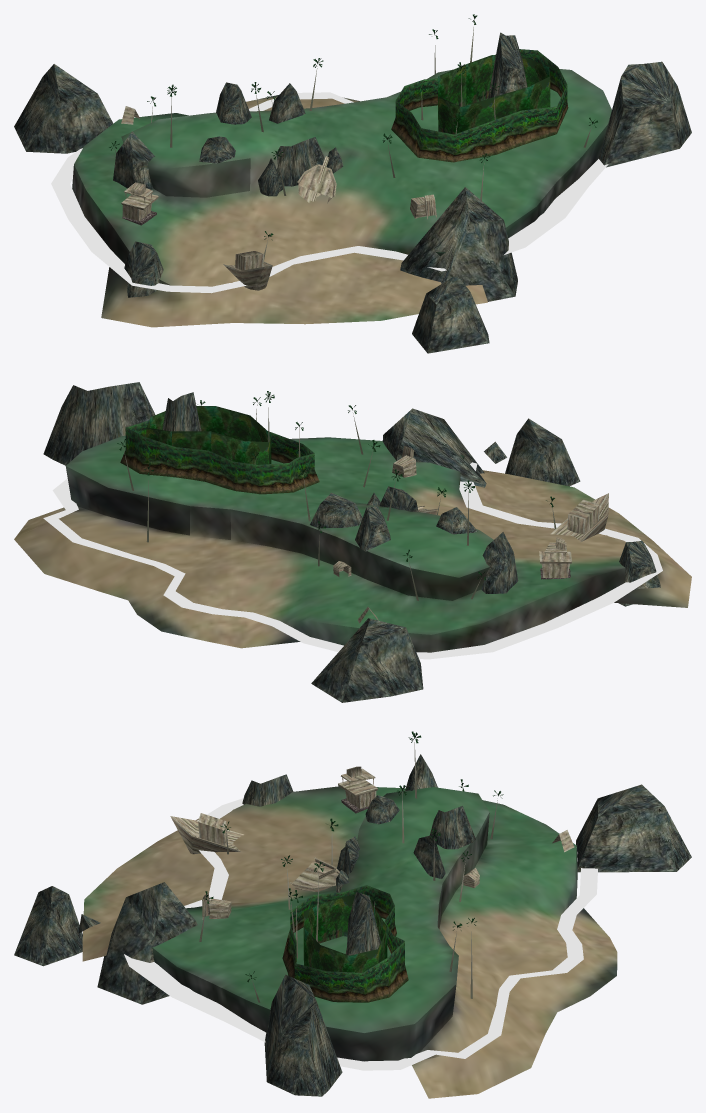
Rendered from pir_m_are_isl_pvpFrench_dock_lod.fbx.
3 renders of one model, top to bottom at view 1: azimuth 30°, elevation 25°; view 2: azimuth 150°, elevation 25°; view 3: azimuth 270°, elevation 25°, orthographic. The views are drawn at different scales.
Parts seen in each view (by area): view 1: floor, rock, berm, dock_wave, trees, shanty_repairshop_exterior_Proxy_deck43, shipwreck_fore_Proxy_deck_front2; view 2: floor, rock, dock_wave, berm, trees, shanty_repairshop_exterior_Proxy_cabin3, shanty_repairshop_exterior_Proxy_deck43; view 3: floor, rock, dock_wave, berm, trees, shanty_repairshop_exterior_Proxy_deck43, shanty_repairshop_exterior_Proxy_cabin3, shipwreck_fore_Proxy_deck_front2.
Boxes of the visible parts, x1,y1,x2,y2 form: floor: (72,69,611,327); rock: (14,32,691,353); berm: (391,49,568,162); dock_wave: (51,92,608,293); trees: (438,55,550,134); shanty_repairshop_exterior_Proxy_deck43: (223,261,272,290); shipwreck_fore_Proxy_deck_front2: (298,167,333,197); floor: (14,435,691,652); rock: (43,382,660,702); dock_wave: (43,462,662,659); berm: (120,420,319,494); trees: (146,406,271,464); shanty_repairshop_exterior_Proxy_cabin3: (567,499,599,534); shanty_repairshop_exterior_Proxy_deck43: (550,493,608,542); floor: (82,786,617,1098); rock: (14,754,691,1096); dock_wave: (124,798,597,1070); berm: (282,885,408,1002); trees: (303,895,387,972); shanty_repairshop_exterior_Proxy_deck43: (170,816,243,854); shanty_repairshop_exterior_Proxy_cabin3: (198,813,227,845); shipwreck_fore_Proxy_deck_front2: (291,861,338,887).
Size of the model in its own units: 108784 by 26509 by 99421.
Materials: 4 (4 with a texture image).
